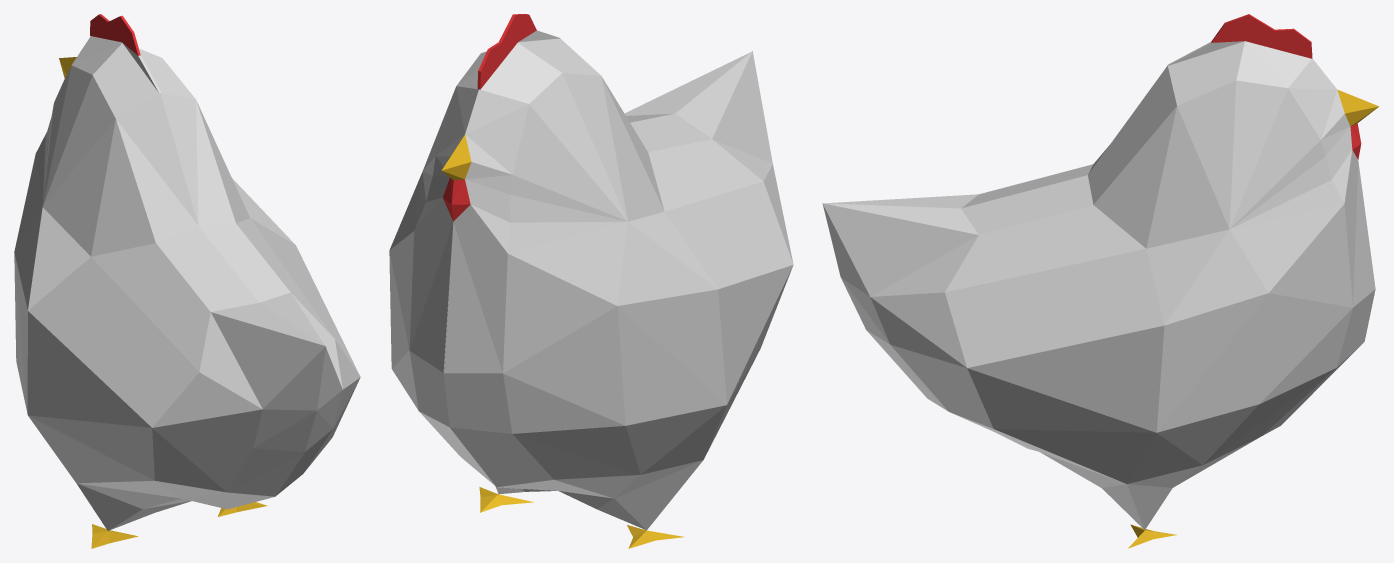
Rendered from chicken-merged-mesh.glb.
The picture shows the model from 3 angles, left to right: view 1: azimuth 30°, elevation 25°; view 2: azimuth 150°, elevation 25°; view 3: azimuth 270°, elevation 25°; orthographic projection. The views are drawn at different scales.
Visible parts, largest first — view 1: Plane; view 2: Plane; view 3: Plane.
Part boxes in pixels (<box>): Plane: <box>14,14,360,548</box>; Plane: <box>389,14,793,548</box>; Plane: <box>822,14,1378,548</box>.
Size of the model in its own units: 2.45 by 4.02 by 4.11.
